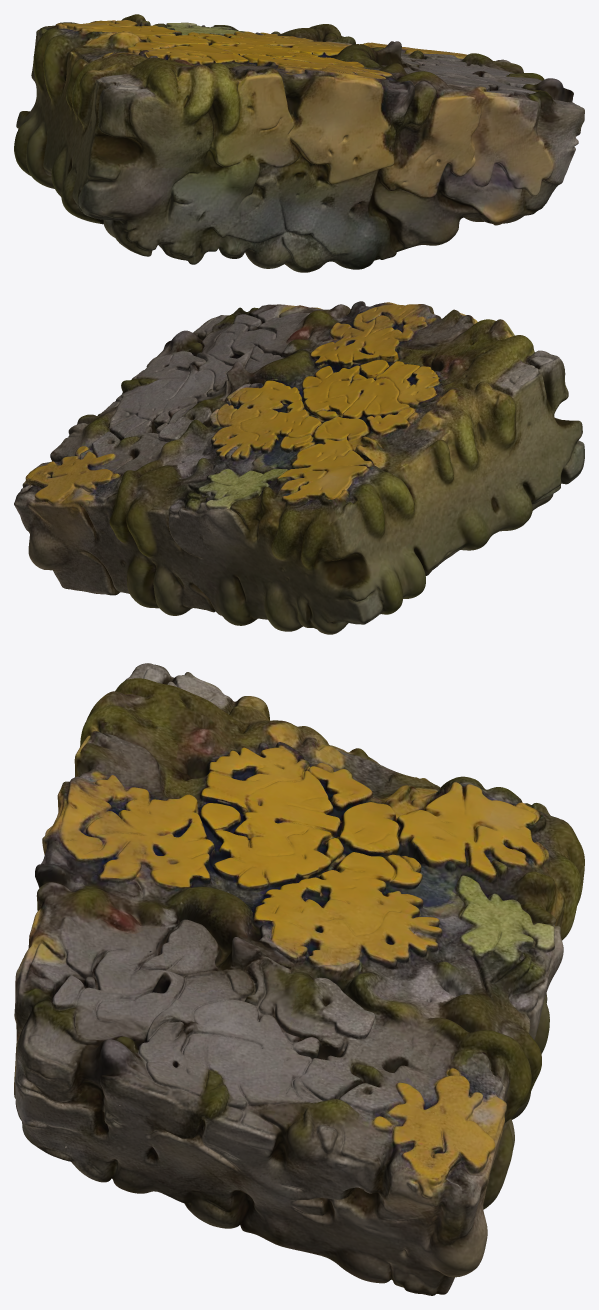
The model's file is rock_lichen2.glb.
The picture shows the model from 3 angles, top to bottom: view 1: azimuth 30°, elevation 25°; view 2: azimuth 150°, elevation 25°; view 3: azimuth 270°, elevation 25°; orthographic projection. The views are drawn at different scales.
Visible parts, largest first — view 1: tripo_node_6fa86850; view 2: tripo_node_6fa86850; view 3: tripo_node_6fa86850.
Boxes of the visible parts, bbox=[...] form: tripo_node_6fa86850: bbox=[14, 14, 584, 272]; tripo_node_6fa86850: bbox=[14, 301, 584, 634]; tripo_node_6fa86850: bbox=[14, 663, 584, 1295].
Size of the model in its own units: 0.9999 by 0.5458 by 0.7456.
Materials: 1 (1 with a texture image).
